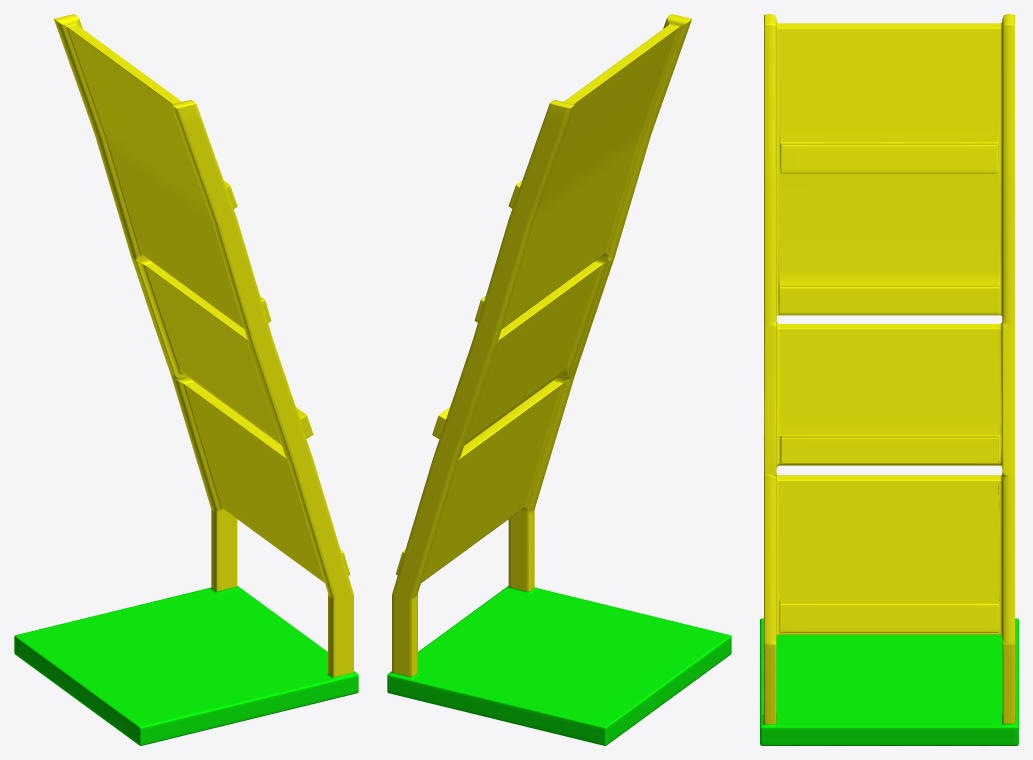
The model's file is bookstand.fbx.
3 renders of one model, left to right at view 1: azimuth 30°, elevation 25°; view 2: azimuth 150°, elevation 25°; view 3: azimuth 270°, elevation 25°, orthographic. The views are drawn at different scales.
Parts seen in each view (by area): view 1: pCube16 (×2); view 2: pCube16 (×2); view 3: pCube16 (×2).
Part boxes in pixels (x1,y1,x2,y2): pCube16 (×2): (14,14,358,745); pCube16 (×2): (387,14,731,745); pCube16 (×2): (760,14,1018,745).
Bounding box in the file's own units: 45.13 × 123 × 45.
